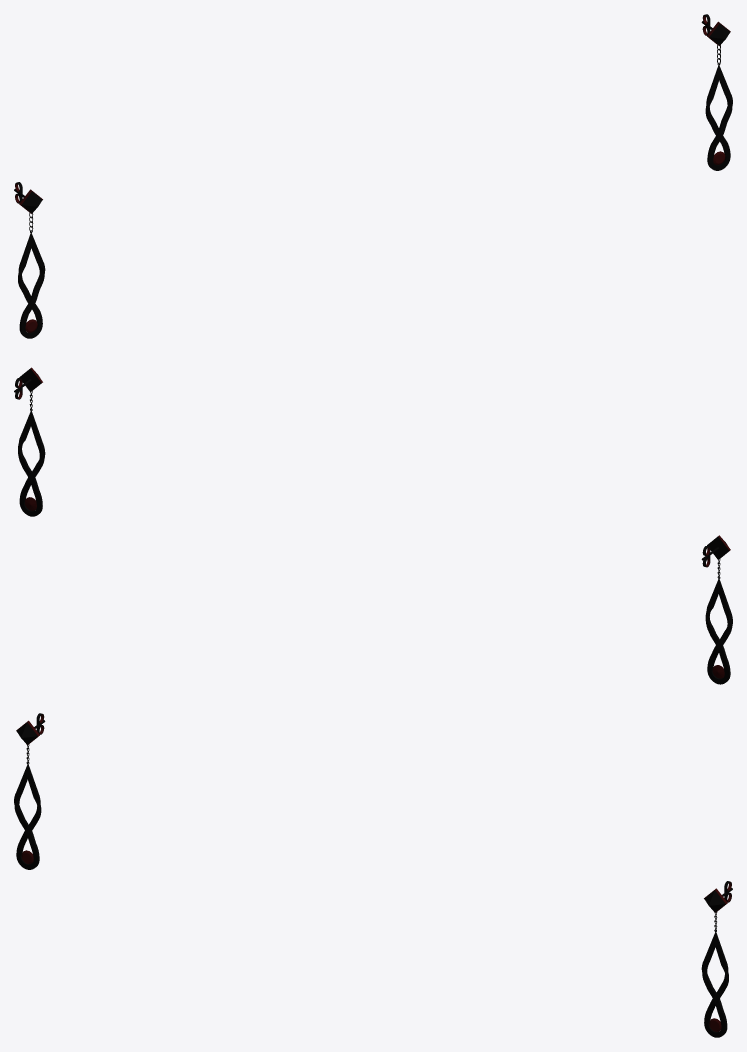
Rendered from sceneEdited.glb.
3 renders of one model, top to bottom at view 1: azimuth 30°, elevation 25°; view 2: azimuth 150°, elevation 25°; view 3: azimuth 330°, elevation 25°, orthographic.
Visible parts, largest first — view 1: Object_4.001, Object_4, Object_5.003, Object_5.002; view 2: Object_4.001, Object_4, Object_5.003, Object_5.002; view 3: Object_4.001, Object_4, Object_5.002, Object_5.003.
Part boxes in pixels (box(x1,y1,x2,y2)): Object_4.001: box(15, 182, 44, 338); Object_4: box(702, 14, 732, 170); Object_5.003: box(18, 233, 45, 336); Object_5.002: box(705, 65, 732, 167); Object_4.001: box(702, 536, 732, 684); Object_4: box(15, 368, 45, 516); Object_5.003: box(706, 579, 732, 681); Object_5.002: box(18, 411, 44, 513); Object_4.001: box(14, 713, 44, 869); Object_4: box(702, 881, 731, 1037); Object_5.002: box(701, 932, 728, 1035); Object_5.003: box(14, 764, 41, 866).
Bounding box in the file's own units: 17.1 × 3.38 × 0.9607.
5 materials, 5 textured.
